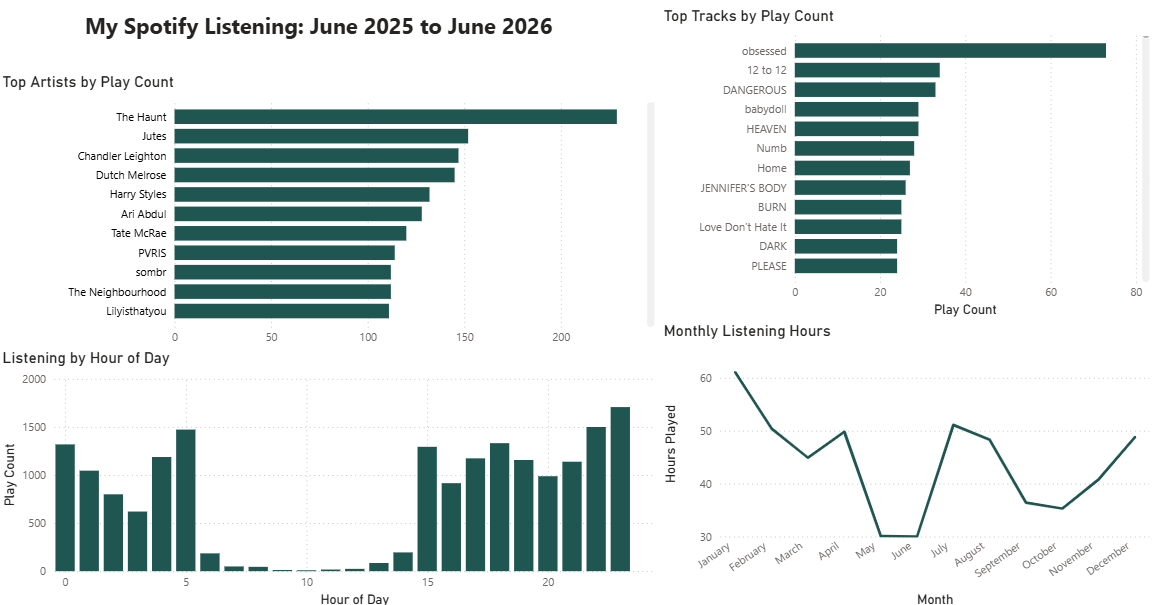

Layout of this report page (visuals, bound fields, positions):
{"tool":"powerbi","page":{"name":"Page 1","canvas":[1280,720],"ordinal":0},"visuals":[{"type":"clusteredBarChart","title":"Top Artists by Play Count","fields":{"Category":["top_artists.artist_name"],"Y":["Sum(top_artists.play_count)"]},"box":[0,129,725.9,322.5],"z":0},{"type":"clusteredColumnChart","title":"Listening by Hour of Day","fields":{"Category":["by_hour.hour"],"Y":["Sum(by_hour.play_count)"]},"box":[0,432.2,725.9,288.2],"z":1},{"type":"lineChart","title":"Monthly Listening Hours","fields":{"Y":["Sum(by_month.hours_played)"],"Category":["by_month.month.Variation.Date Hierarchy.Month"]},"box":[725.9,402.1,543.4,318.4],"z":2},{"type":"clusteredBarChart","title":"Top Tracks by Play Count","fields":{"Category":["top_tracks.track_name"],"Y":["Sum(top_tracks.play_count)"]},"box":[725.9,56.3,543.4,345.8],"z":3},{"type":"textbox","box":[45.3,56.3,613.4,48],"z":4}]}

Visuals, with their boxes on the page's 1280x720 design canvas (x1, y1, x2, y2). These are canvas units, not pixel positions in the 1162x605 screenshot, which may show the page scaled, cropped or inside an application window:
"Top Artists by Play Count" clusteredBarChart: 0,129,726,452
"Listening by Hour of Day" clusteredColumnChart: 0,432,726,720
"Monthly Listening Hours" lineChart: 726,402,1269,720
"Top Tracks by Play Count" clusteredBarChart: 726,56,1269,402
textbox: 45,56,659,104
